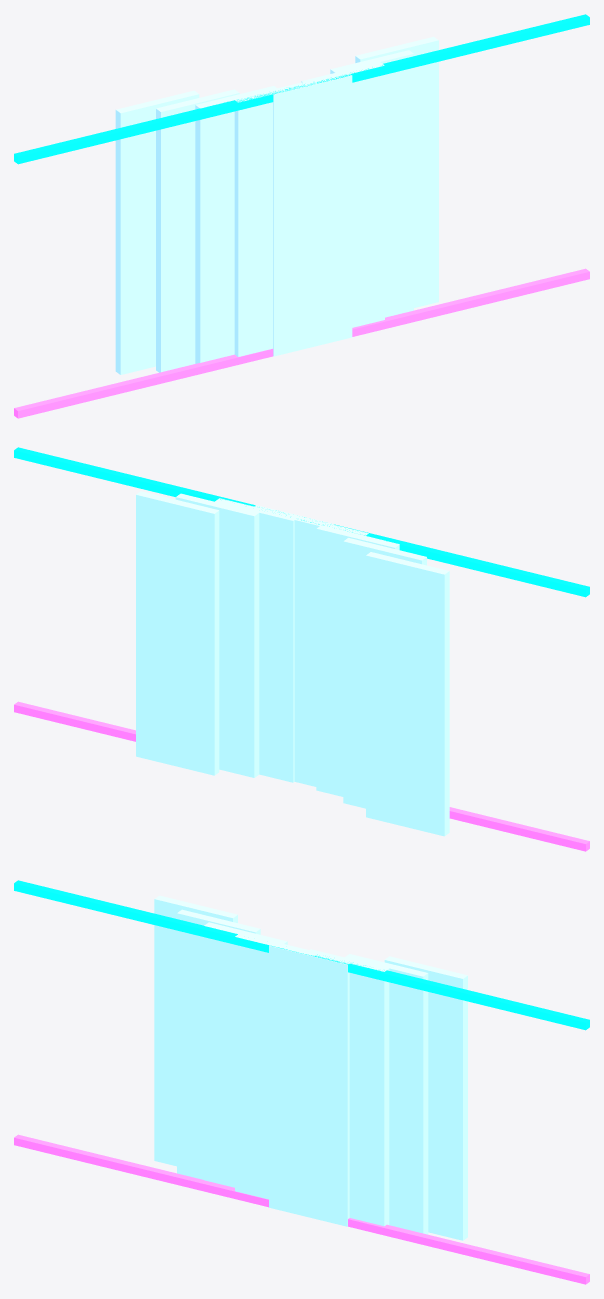
The model's file is SIGN_Screen_Curved_LG.glb.
3 views of the same model, one above another, from view 1: azimuth 30°, elevation 25°; view 2: azimuth 150°, elevation 25°; view 3: azimuth 330°, elevation 25° (orthographic).
Visible parts, largest first — view 1: SIGN_Screen_Curved_LG; view 2: SIGN_Screen_Curved_LG; view 3: SIGN_Screen_Curved_LG.
Boxes of the visible parts, left/top/right/bottom form: SIGN_Screen_Curved_LG: left=14, top=14, right=589, bottom=418; SIGN_Screen_Curved_LG: left=14, top=447, right=589, bottom=851; SIGN_Screen_Curved_LG: left=14, top=880, right=589, bottom=1284.
Bounding box in the file's own units: 8 × 3.5 × 0.5868.
